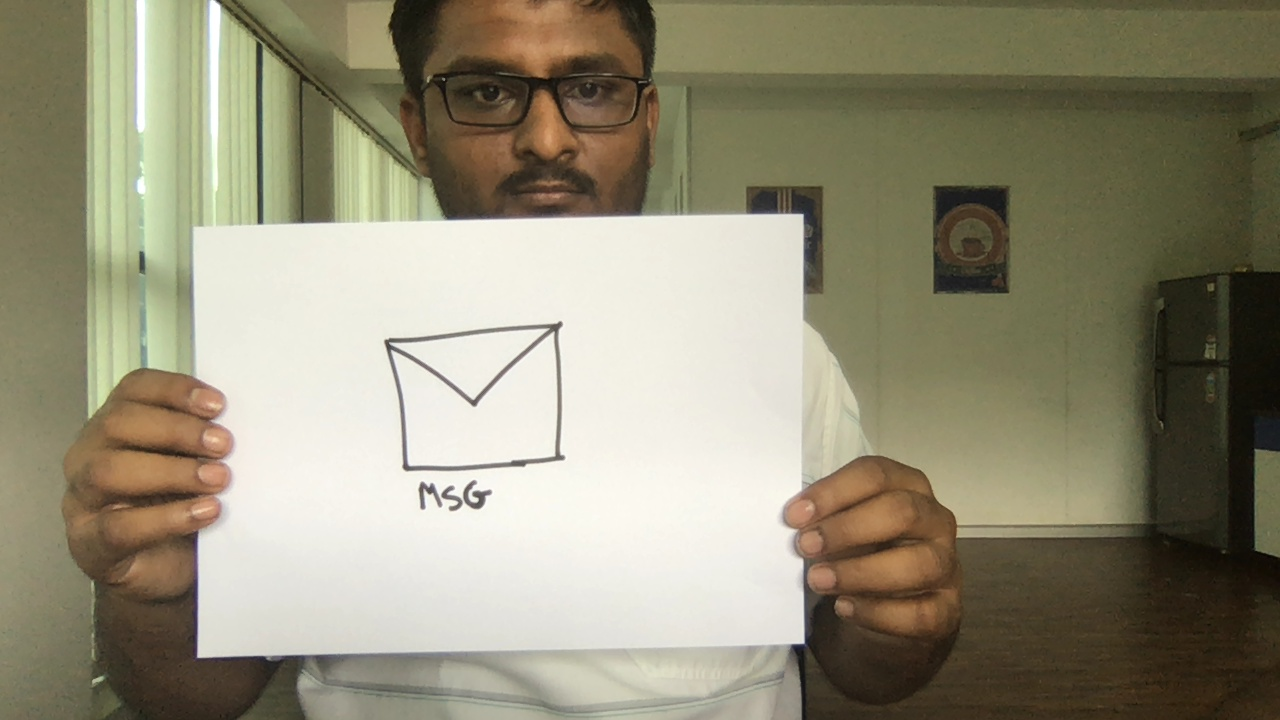sns: (371, 312, 585, 517)
